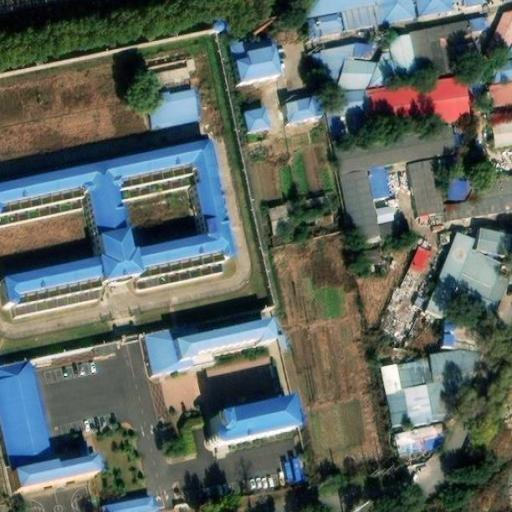building: (143, 318, 276, 374), (376, 351, 474, 425), (332, 118, 457, 175), (440, 250, 510, 350), (364, 70, 473, 134), (377, 245, 445, 345), (312, 33, 416, 98), (407, 14, 502, 80), (418, 231, 476, 321), (339, 166, 397, 246), (201, 394, 286, 440), (8, 449, 100, 491), (438, 168, 512, 219), (148, 88, 205, 152), (228, 30, 281, 82), (465, 60, 512, 114), (324, 90, 372, 141), (406, 156, 444, 218), (394, 424, 442, 463), (145, 58, 197, 85), (486, 12, 512, 66), (477, 226, 512, 257), (486, 109, 512, 147), (286, 95, 322, 122), (265, 205, 291, 238), (101, 496, 152, 512), (248, 107, 271, 131), (356, 248, 380, 269)
